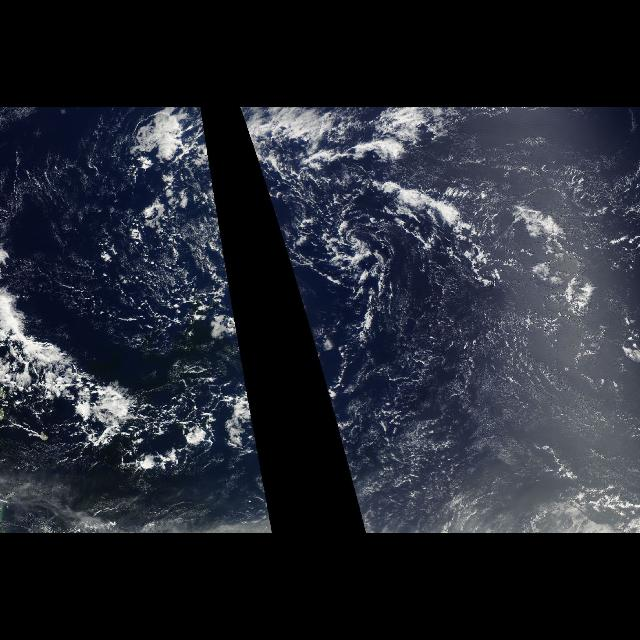Gravel: (263, 176, 367, 302), (172, 176, 236, 302)
Sugar: (343, 280, 635, 498)
